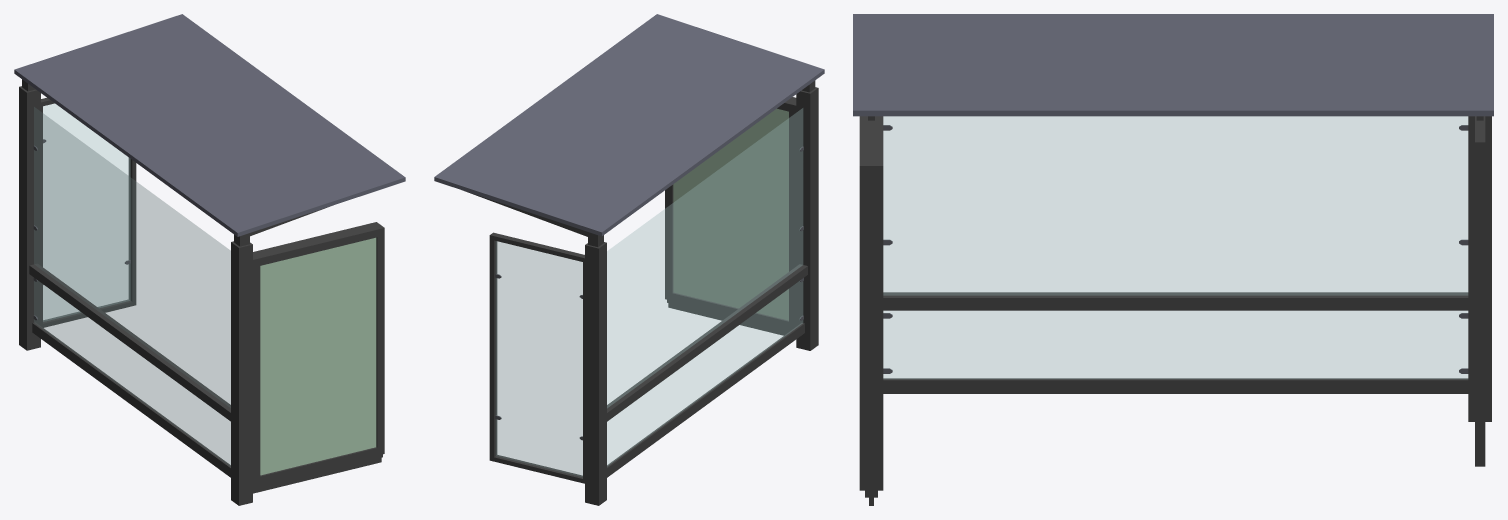
Rendered from busstop_2.glb.
The picture shows the model from 3 angles, left to right: view 1: azimuth 30°, elevation 25°; view 2: azimuth 150°, elevation 25°; view 3: azimuth 270°, elevation 25°; orthographic projection. The views are drawn at different scales.
Visible parts, largest first — view 1: Bus stop; view 2: Bus stop; view 3: Bus stop.
Part boxes in pixels (x1,y1,x2,y2): Bus stop: (14, 14, 405, 505); Bus stop: (434, 14, 824, 505); Bus stop: (853, 14, 1493, 505).
Bounding box in the file's own units: 0.4117 × 0.6797 × 0.9476.
3 materials, 1 textured.
